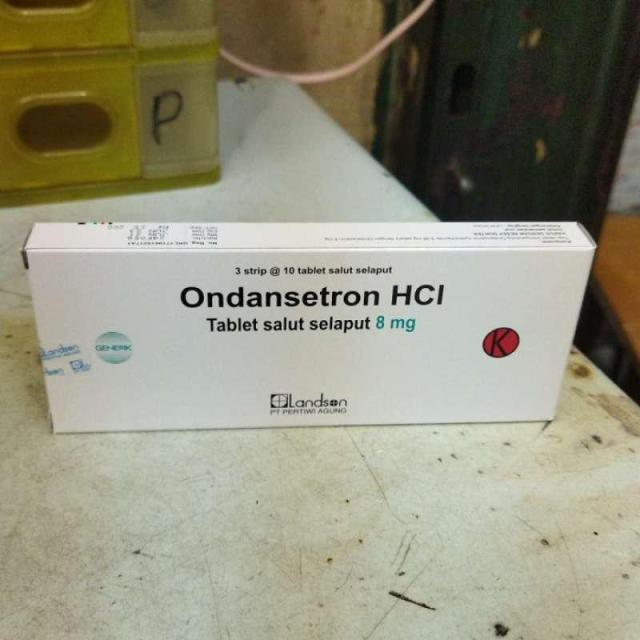drug-name: (182, 280, 384, 312)
